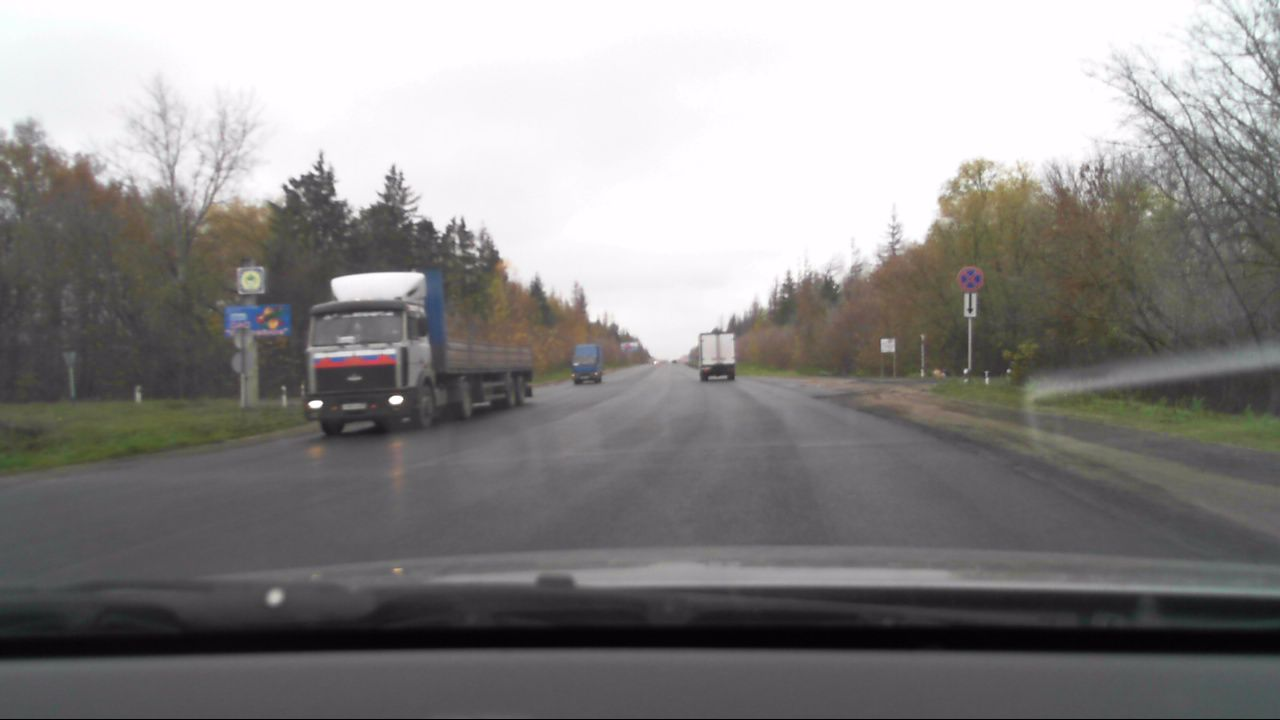No Parking: (956, 264, 982, 290)
